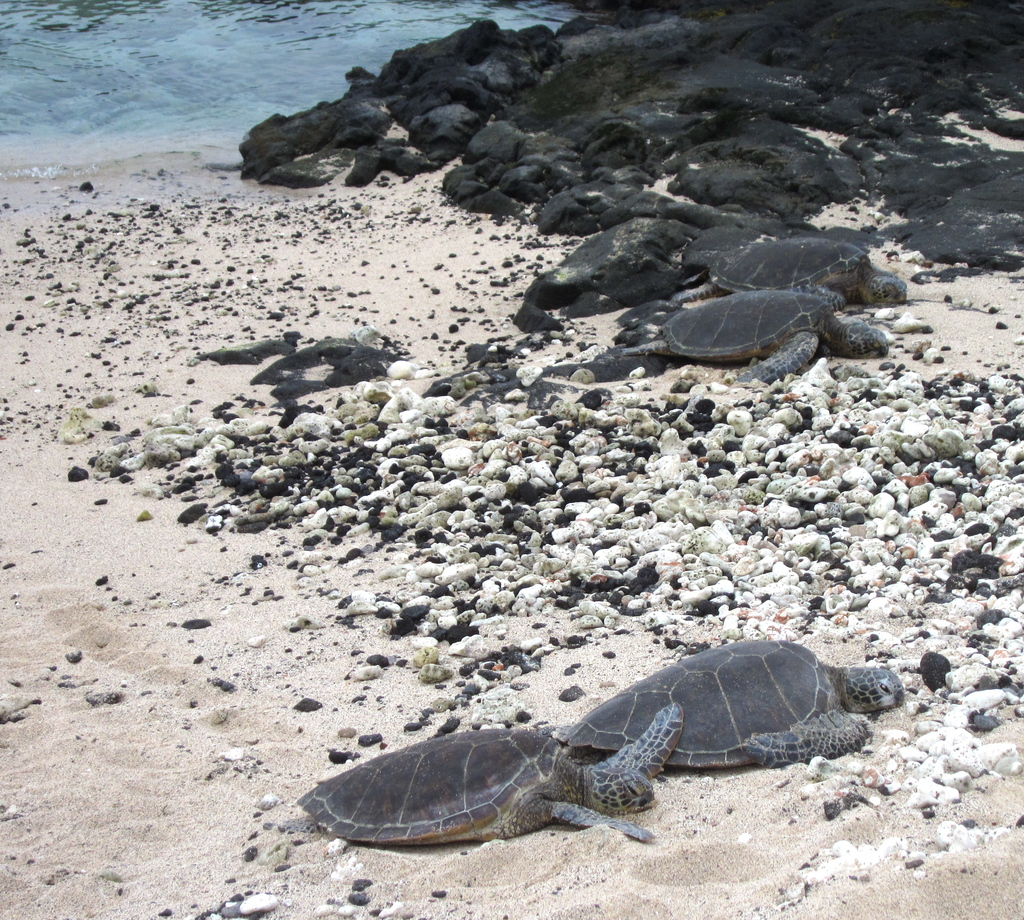Sea turtles: (294, 705, 682, 850), (552, 634, 908, 771), (620, 285, 894, 385), (676, 232, 906, 306)
